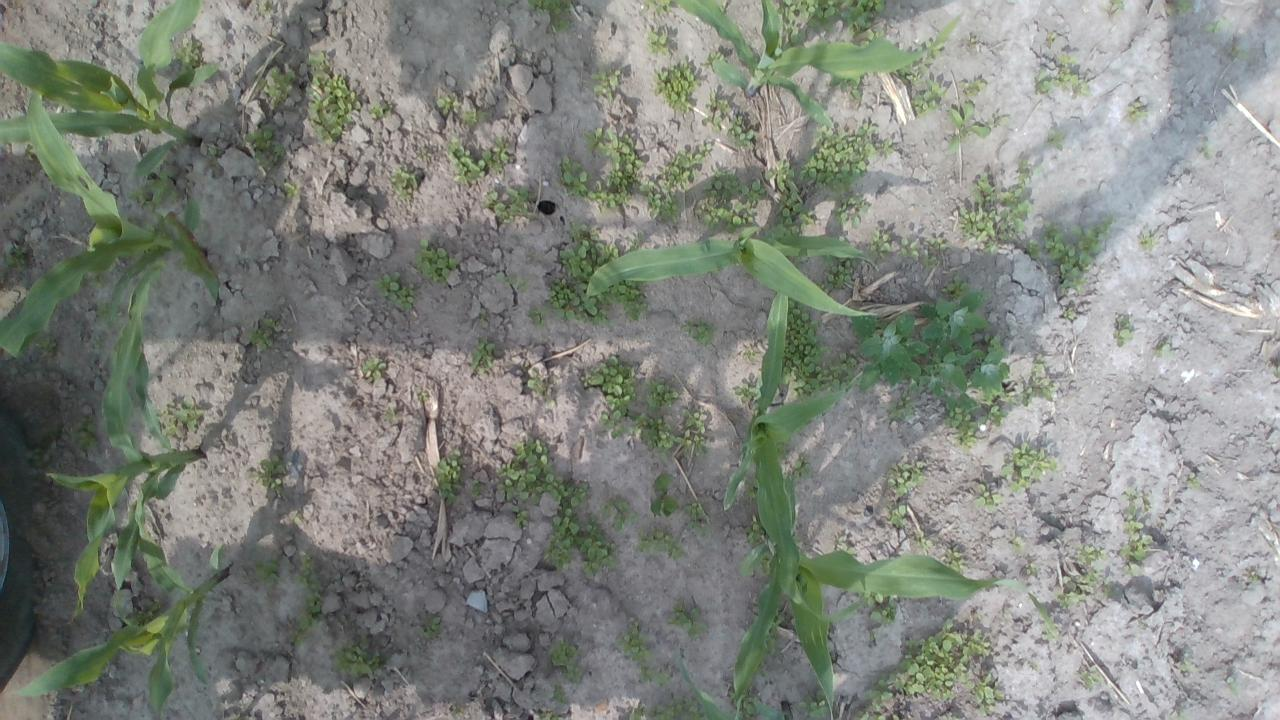Maize: (0, 88, 219, 455), (733, 540, 1061, 718), (51, 268, 206, 622), (21, 488, 230, 719), (724, 292, 870, 622), (0, 0, 218, 179), (672, 0, 966, 131), (586, 219, 874, 318), (674, 655, 738, 720)
Weeds: (850, 274, 1020, 450), (896, 617, 1006, 717), (550, 219, 650, 328), (796, 121, 894, 196), (558, 128, 644, 209), (544, 480, 618, 574), (959, 175, 1041, 259), (772, 0, 886, 56), (640, 142, 711, 226), (1044, 217, 1113, 292), (493, 431, 562, 505), (782, 297, 832, 399), (304, 52, 358, 144), (580, 354, 638, 439), (701, 165, 764, 233), (766, 158, 818, 239), (866, 229, 952, 272), (622, 620, 674, 686), (288, 553, 323, 646), (1001, 438, 1057, 492), (1120, 489, 1156, 568), (652, 56, 699, 114), (1055, 568, 1122, 608), (126, 163, 180, 212), (329, 632, 384, 679), (893, 39, 945, 86), (1035, 54, 1091, 97), (947, 100, 991, 152), (480, 183, 532, 223), (854, 673, 898, 720), (448, 132, 487, 185), (416, 238, 460, 284), (625, 697, 712, 720), (160, 395, 204, 440), (255, 63, 298, 109), (244, 125, 288, 169), (246, 450, 288, 496), (374, 272, 422, 312), (433, 446, 464, 507), (1018, 354, 1055, 404), (546, 636, 584, 684), (634, 529, 688, 562), (527, 0, 576, 34), (636, 412, 676, 452), (677, 406, 708, 457), (832, 190, 872, 229), (819, 257, 859, 295), (698, 90, 732, 133), (649, 473, 683, 516), (482, 135, 518, 175), (638, 374, 678, 410), (858, 588, 896, 625), (888, 460, 926, 496), (388, 162, 420, 204), (672, 606, 711, 640), (912, 80, 945, 118), (244, 314, 276, 352), (678, 320, 720, 348), (174, 37, 202, 76), (590, 66, 622, 100), (68, 419, 102, 451), (126, 596, 162, 626), (254, 556, 286, 588), (682, 502, 712, 536), (492, 268, 530, 294), (834, 348, 860, 386), (741, 696, 782, 720), (941, 544, 968, 580), (728, 114, 756, 148), (614, 496, 640, 530), (829, 72, 863, 98), (973, 482, 1005, 509), (471, 340, 496, 374), (800, 694, 829, 720), (524, 370, 550, 398), (0, 244, 27, 270), (1078, 543, 1108, 566), (732, 380, 762, 402), (886, 503, 910, 530), (647, 28, 670, 56), (958, 76, 987, 98), (790, 452, 811, 482), (362, 356, 388, 380), (416, 614, 442, 638), (744, 520, 768, 545), (461, 108, 491, 128), (1126, 100, 1150, 124), (701, 50, 726, 73), (834, 535, 858, 558), (366, 100, 394, 119), (1080, 668, 1104, 690), (511, 503, 532, 528), (197, 142, 220, 164), (1114, 319, 1132, 347), (636, 0, 671, 14), (437, 92, 458, 115), (524, 307, 545, 329), (551, 681, 569, 706), (1046, 127, 1064, 152), (90, 270, 110, 292), (144, 216, 164, 236), (533, 708, 566, 720), (766, 628, 780, 656), (34, 335, 57, 352), (96, 302, 112, 326), (914, 536, 934, 555), (758, 550, 772, 576), (1139, 231, 1158, 250), (1204, 17, 1226, 33), (1009, 536, 1028, 554), (254, 0, 278, 14), (1184, 472, 1202, 490), (754, 660, 770, 680), (469, 477, 485, 497), (1174, 0, 1194, 15), (1181, 651, 1195, 672), (1016, 159, 1034, 175), (1227, 677, 1242, 696), (744, 477, 757, 498), (1024, 561, 1042, 576), (1045, 620, 1058, 640), (1152, 341, 1168, 357), (1230, 44, 1246, 60), (286, 182, 300, 200), (712, 0, 729, 13), (94, 334, 106, 352), (742, 348, 757, 362), (993, 114, 1009, 126), (416, 388, 430, 401), (1110, 0, 1124, 11), (1202, 144, 1212, 159), (1062, 308, 1074, 320), (1046, 32, 1058, 44), (730, 690, 739, 704), (383, 408, 395, 417), (1249, 574, 1258, 584), (1272, 368, 1280, 378), (1174, 712, 1184, 720)
